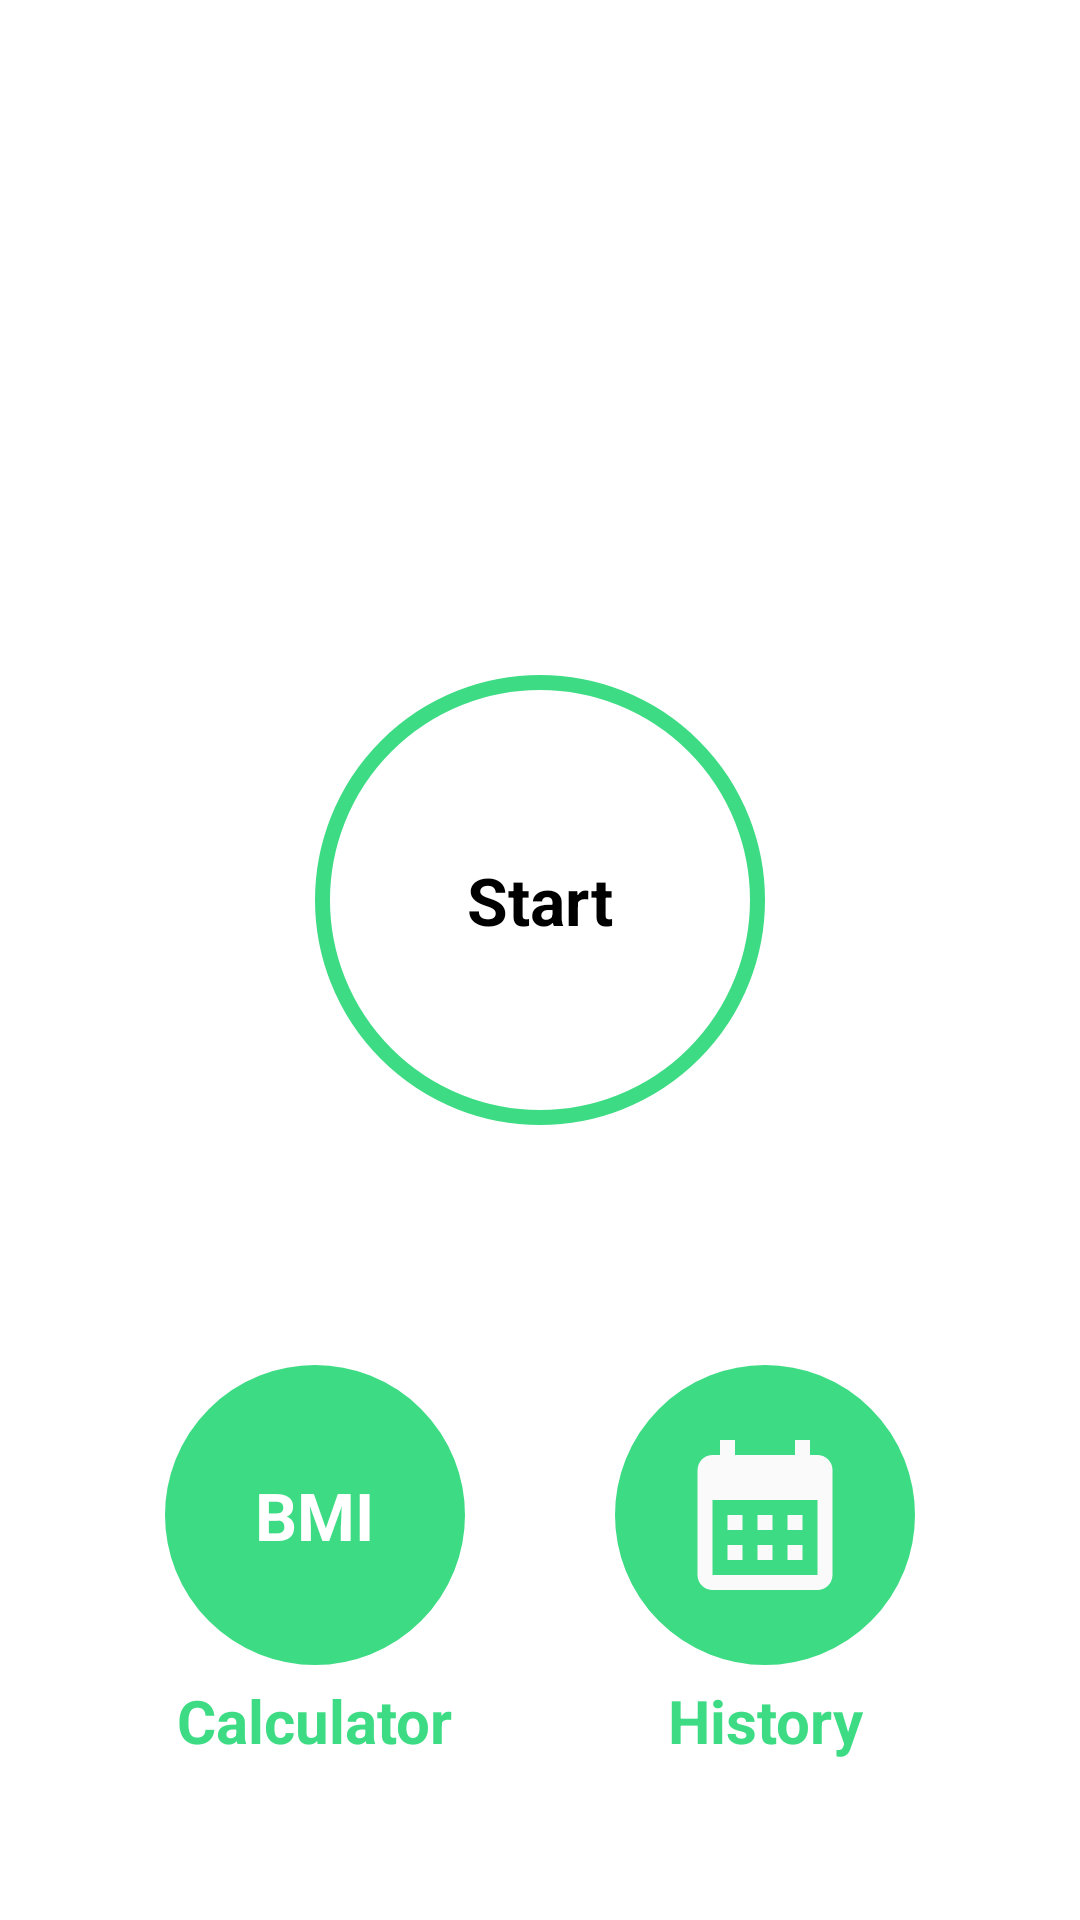

Screen size 1080px×1920px. Icon name, then its center in pixels as (x,y):
calendar month: (765,1515)
